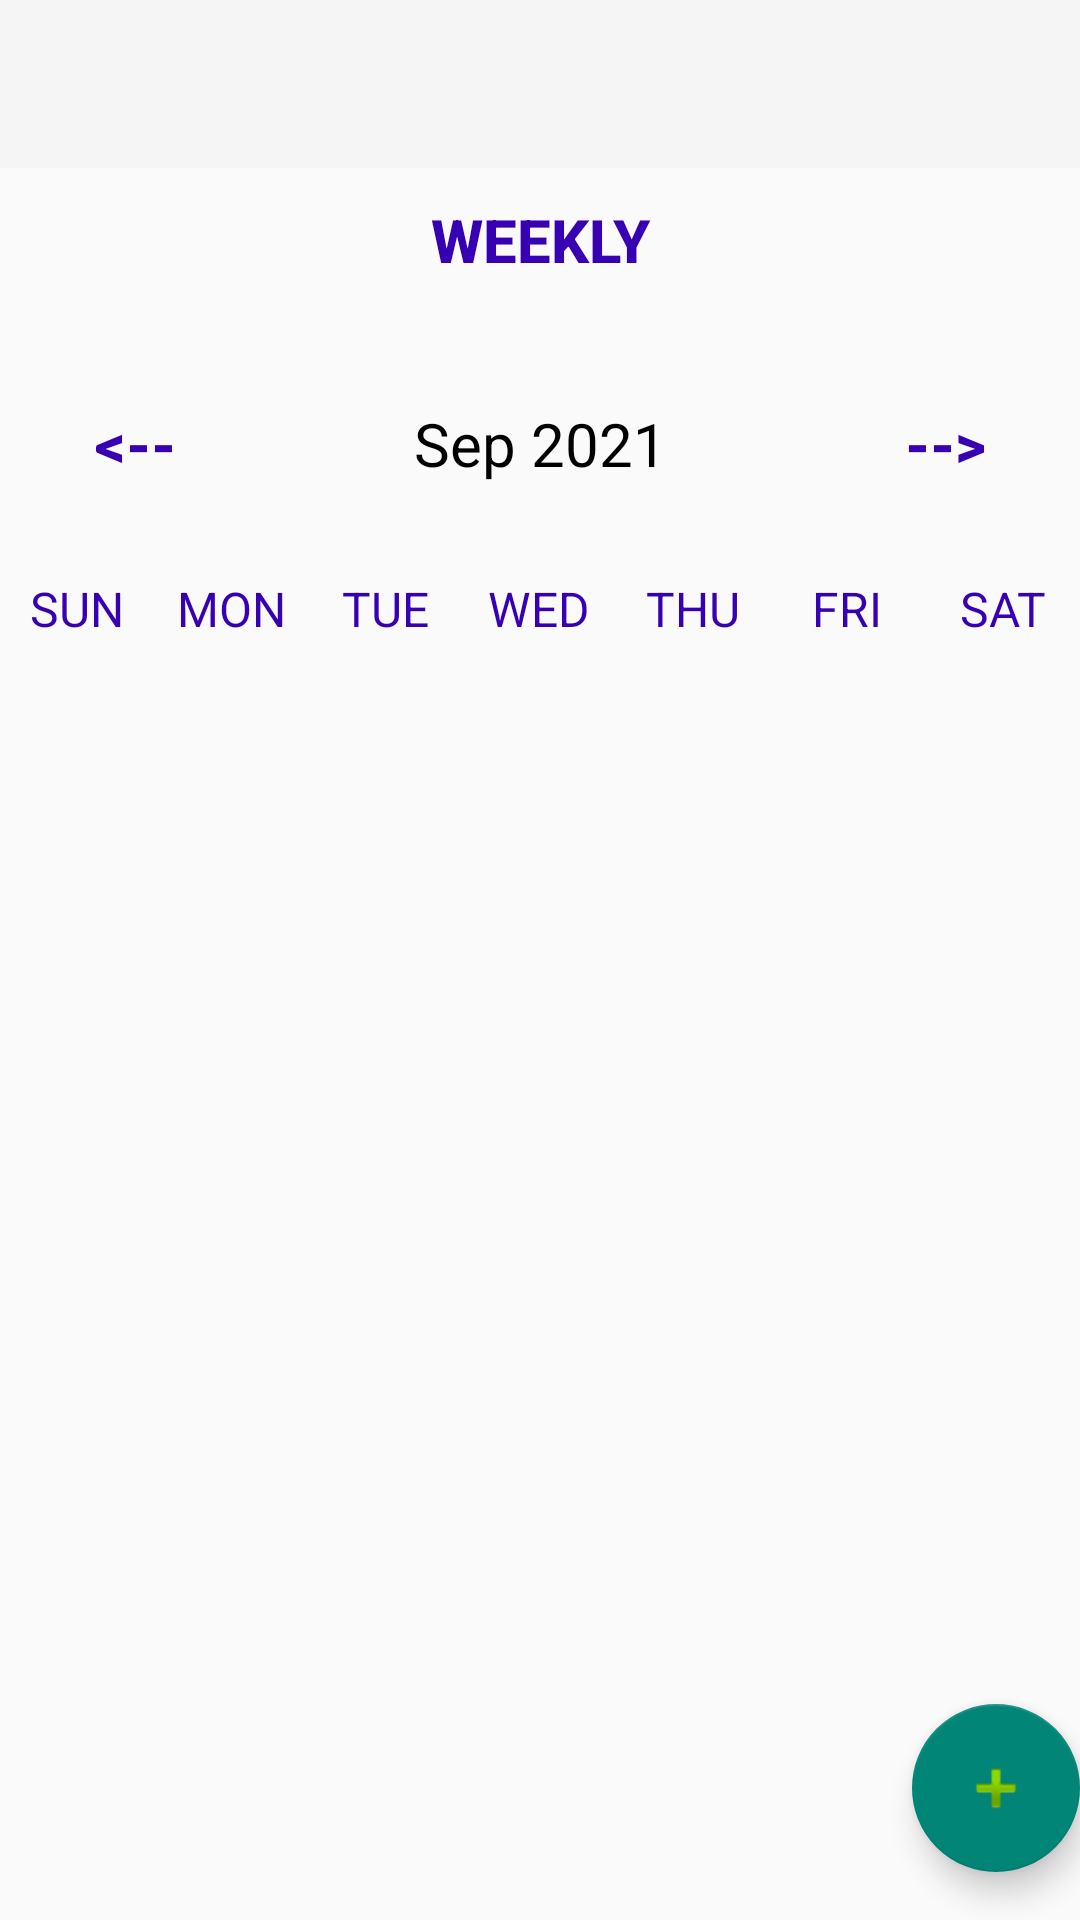

Icon bounding boxes for this 1080 x 1920 phone screenshot, format [x1, y1, x2, y2]:
add: [912, 1704, 1080, 1872]
